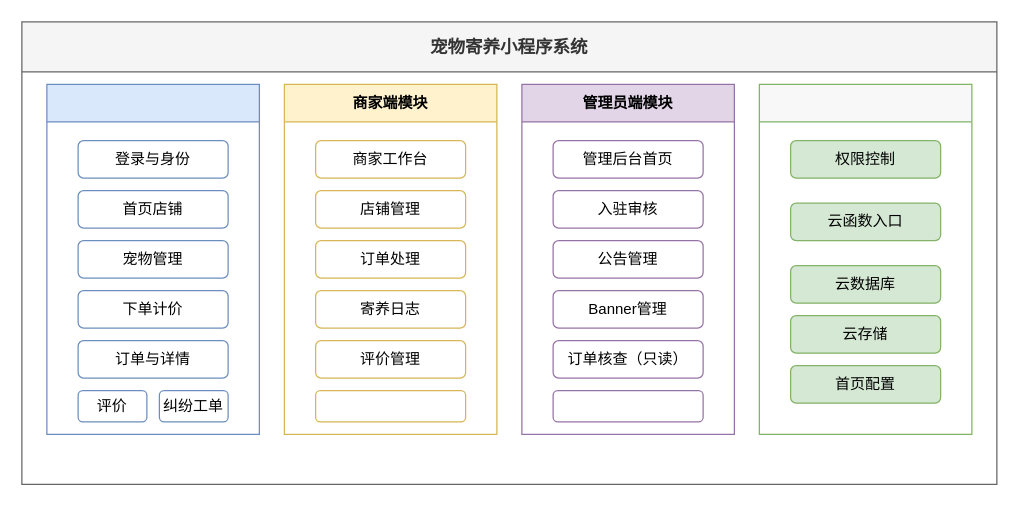
The diagram is 1019 pixels wide and 506 high, and some of its shapes have lost their labels. The shapes that lost their labels are listed below. From the top down, each one's box as (x1, y1, x2, y2) in pixels, then its label:
(46, 83, 259, 434): 普通用户端模块
(758, 83, 972, 434): 公共能力与数据层
(314, 389, 466, 422): 纠纷处理
(552, 389, 703, 422): 纠纷结案
